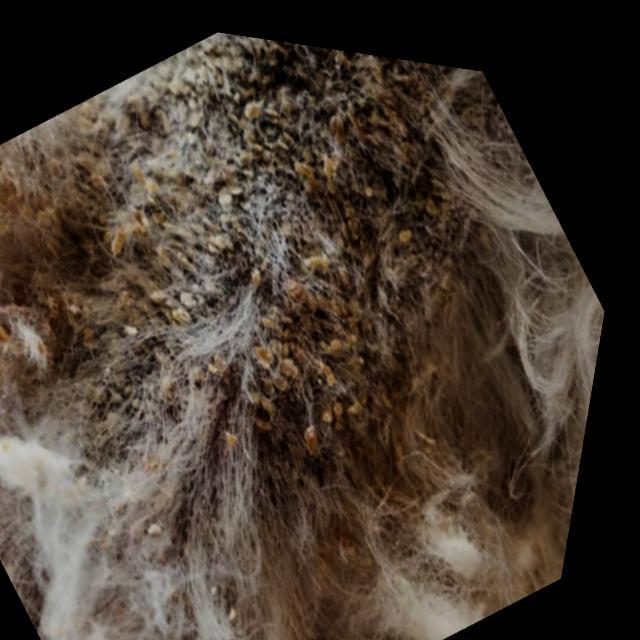nhiem nam (cho): (0, 24, 610, 640)
